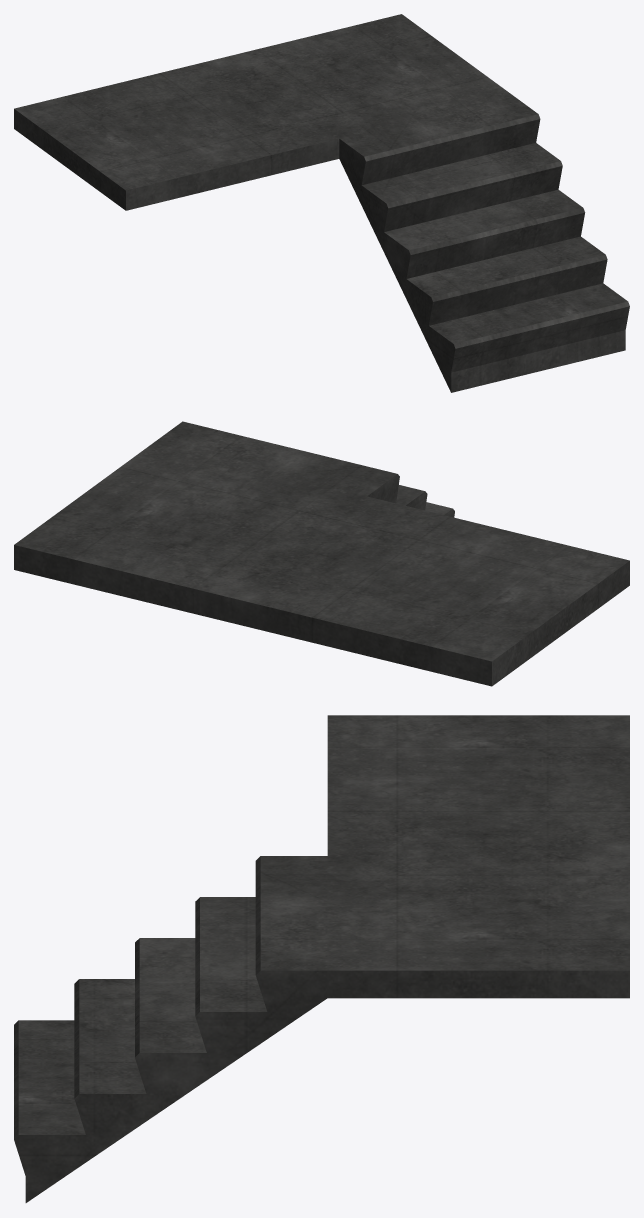
Rendered from stairs_1.obj.
3 renders of one model, top to bottom at view 1: azimuth 30°, elevation 25°; view 2: azimuth 150°, elevation 25°; view 3: azimuth 270°, elevation 25°, orthographic. The views are drawn at different scales.
Visible parts, largest first — view 1: stairs_1; view 2: stairs_1; view 3: stairs_1.
Boxes of the visible parts, x1,y1,x2,y2 form: stairs_1: (14, 14, 629, 392); stairs_1: (14, 421, 629, 686); stairs_1: (14, 715, 629, 1202).
Bounding box in the file's own units: 4 × 1.7 × 4.08.
